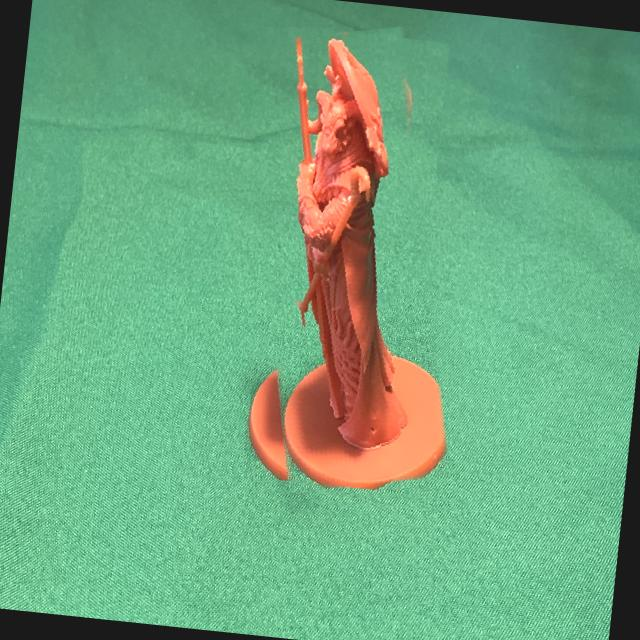amon: (218, 18, 472, 501)
